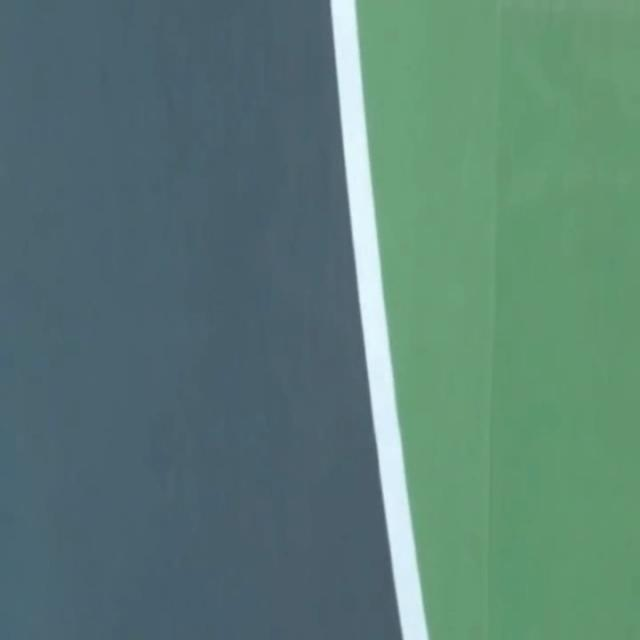right: (330, 0, 428, 639)
